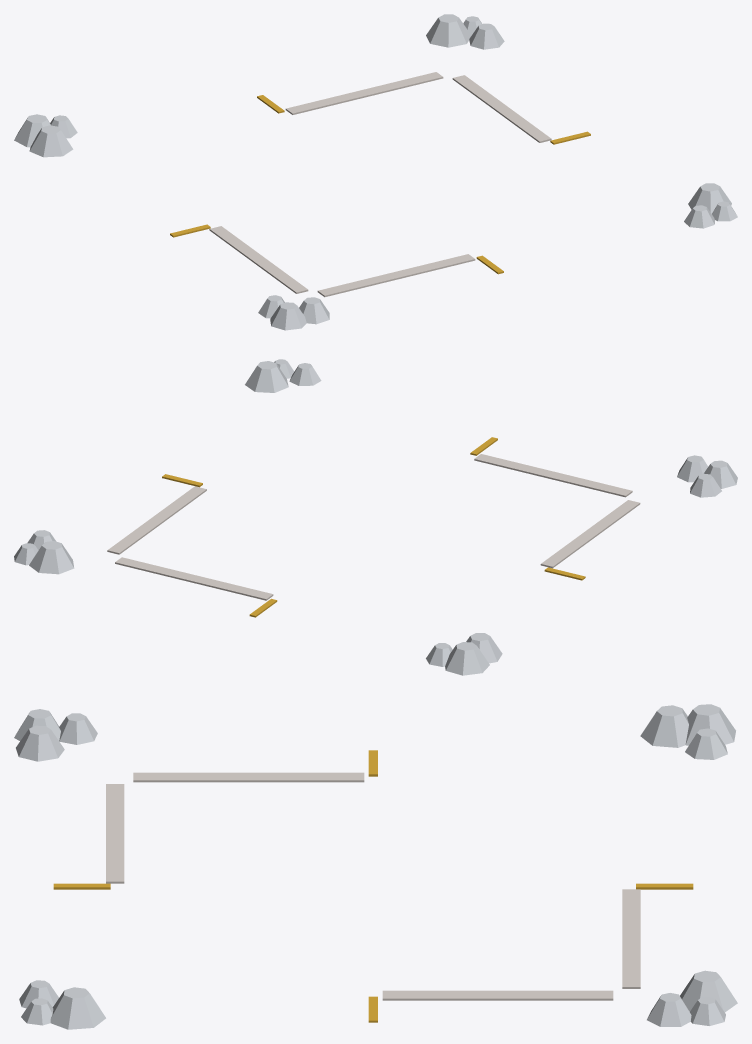
The model's file is Road_Cross_Marks.glb.
3 views of the same model, one above another, from view 1: azimuth 30°, elevation 25°; view 2: azimuth 150°, elevation 25°; view 3: azimuth 270°, elevation 25° (orthographic). The views are drawn at different scales.
Visible parts, largest first — view 1: Road_Cross_Marks; view 2: Road_Cross_Marks; view 3: Road_Cross_Marks.
Boxes of the visible parts, <box> form: Road_Cross_Marks: <box>14,14,737,330</box>; Road_Cross_Marks: <box>14,359,737,675</box>; Road_Cross_Marks: <box>14,704,737,1029</box>.
Size of the model in its own units: 31.78 by 1.77 by 31.69.
